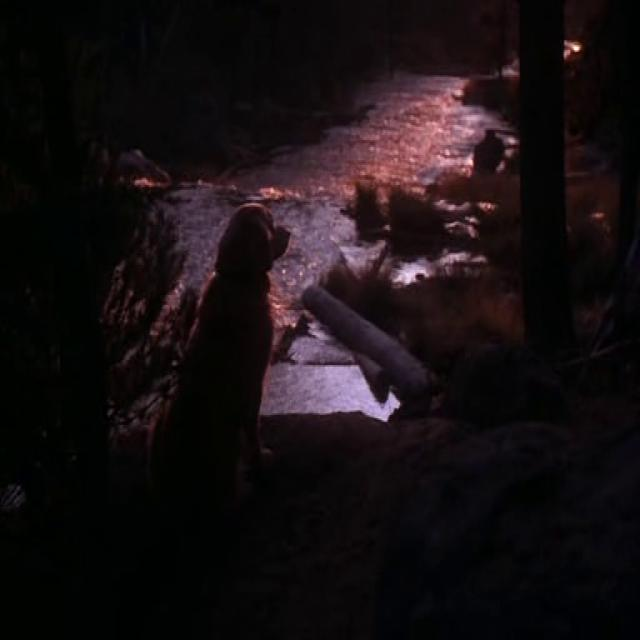Dog: (103, 167, 346, 539)
